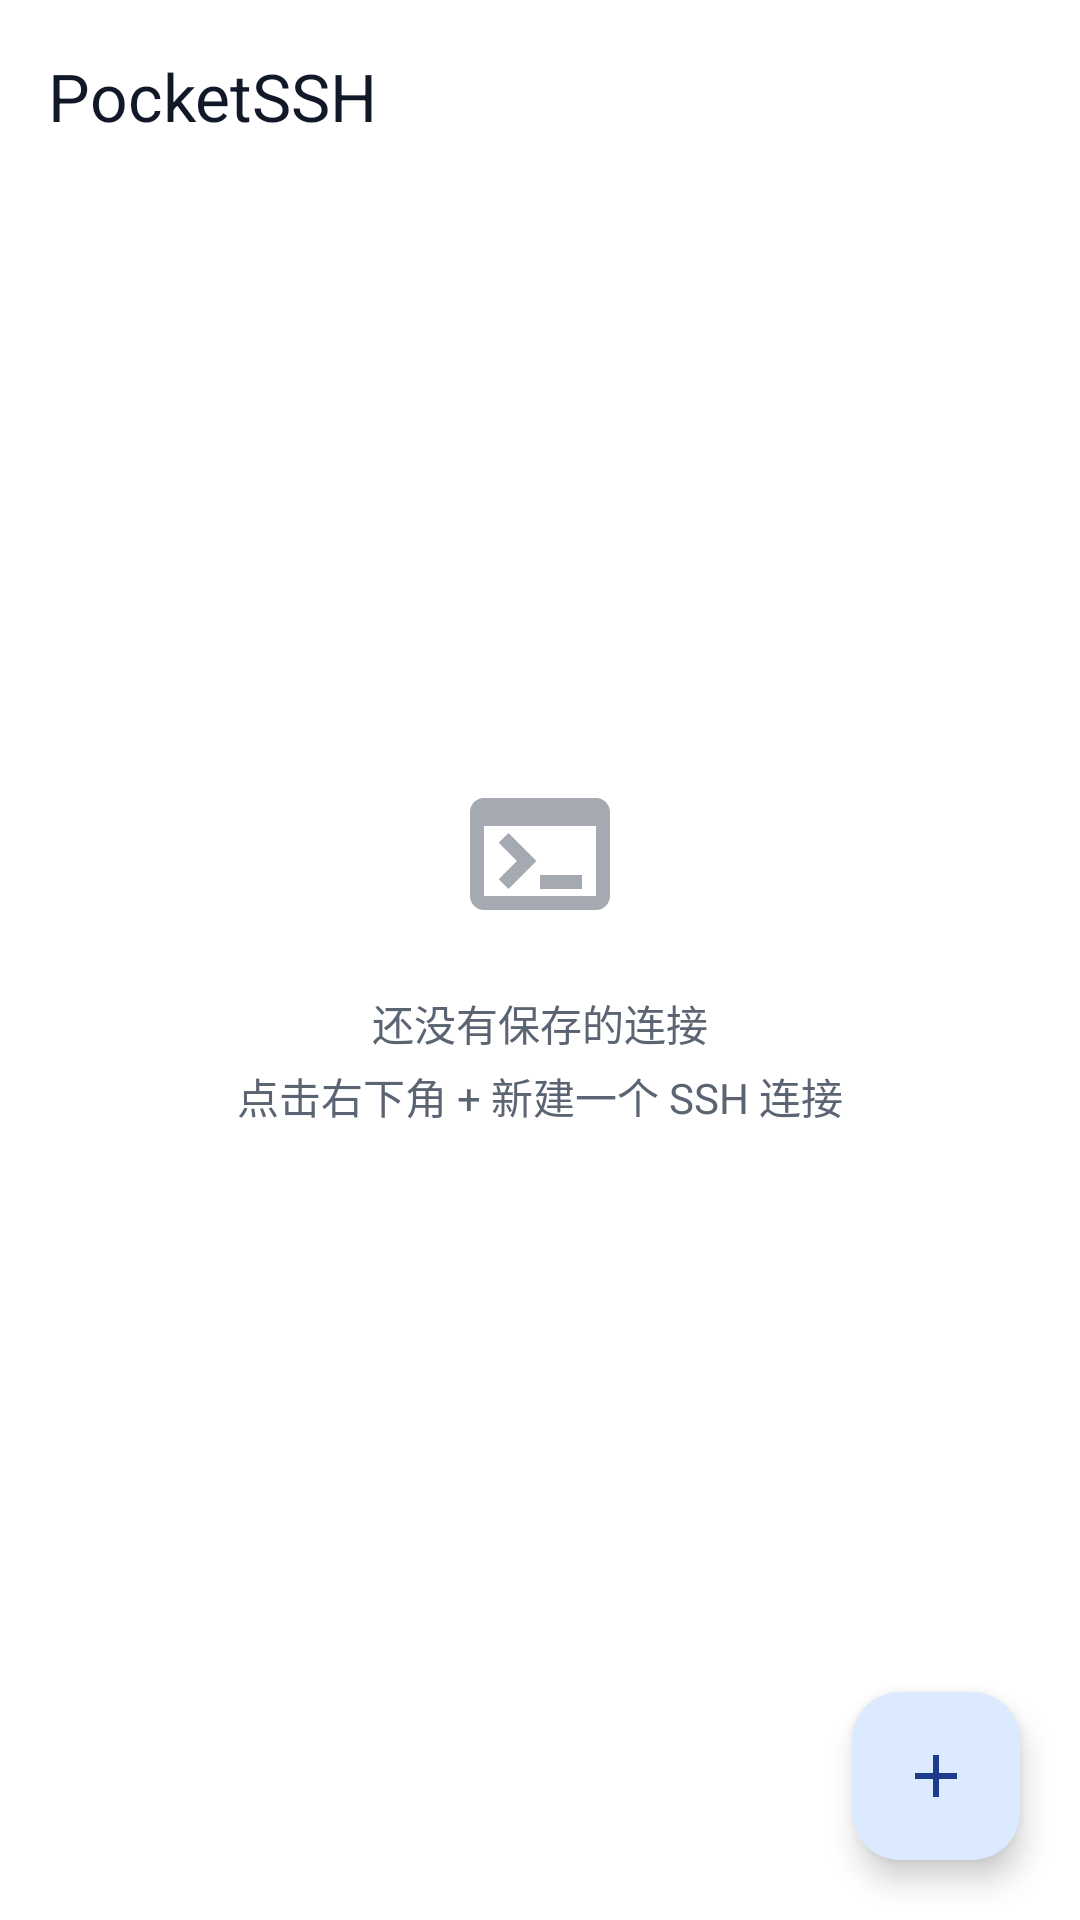

Icon bounding boxes for this 1080w x 1920h phone screenshot, format (x1, y1, x2, y2):
terminal: (470, 798, 610, 910)
新建连接: (852, 1692, 1020, 1860)
